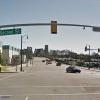Traffic light: (43, 15, 65, 43)
